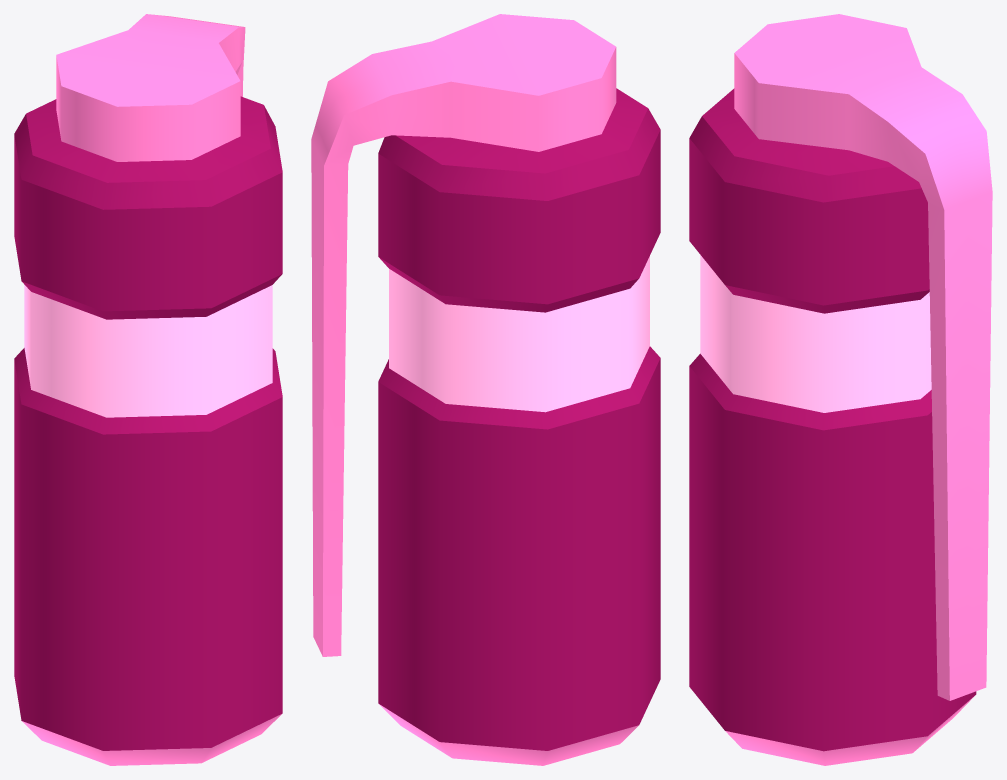
File: Granate_Pink.glb
The picture shows the model from 3 angles, left to right: view 1: azimuth 30°, elevation 25°; view 2: azimuth 150°, elevation 25°; view 3: azimuth 270°, elevation 25°; orthographic projection.
Visible parts, largest first — view 1: Granate_Pink_3.001; view 2: Granate_Pink_3.001; view 3: Granate_Pink_3.001.
Boxes of the visible parts, x1,y1,x2,y2 form: Granate_Pink_3.001: (14,14,282,765); Granate_Pink_3.001: (311,14,660,765); Granate_Pink_3.001: (689,14,992,765).
Bounding box in the file's own units: 0.2738 × 0.625 × 0.2604.
1 material, 1 textured.
